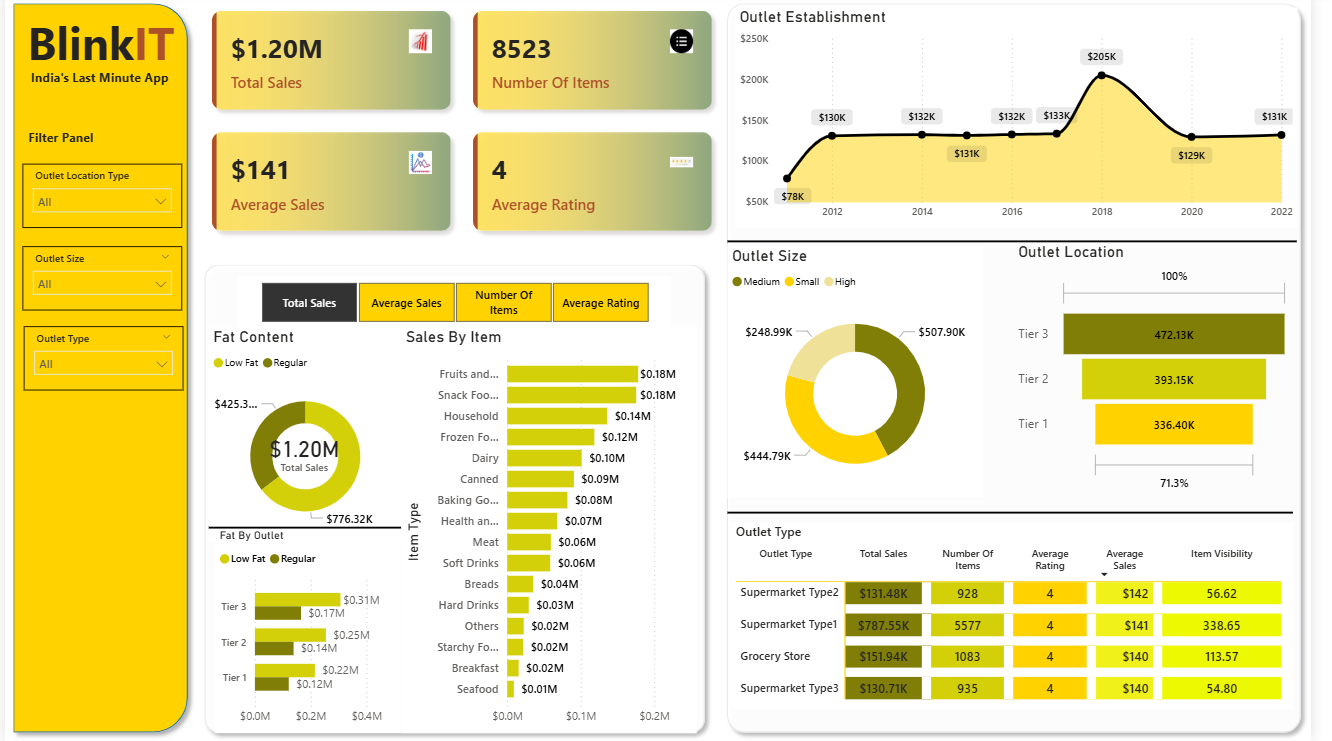

What the dashboard file says about the page in this screenshot:
{"tool":"powerbi","page":{"name":"Page 1","canvas":[1400,800],"ordinal":0},"visuals":[{"type":"shape","box":[0,0,205,799.8],"z":0},{"type":"textbox","box":[14.4,13.4,176.2,80.4],"z":1000},{"type":"textbox","box":[13.8,73.4,176.6,80.9],"z":2000},{"type":"cardVisual","fields":{"Data":["BlinkIT Grocery Data.Total Sales","BlinkIT Grocery Data.Number Of Items","BlinkIT Grocery Data.Average Sales","BlinkIT Grocery Data.Average Rating"]},"box":[205.3,0,570.2,270.2],"z":3000},{"type":"shape","box":[205.3,279.8,554.3,520.2],"z":4000},{"type":"donutChart","title":"Fat Content","fields":{"Y":["BlinkIT Grocery Data.Total Sales"],"Category":["BlinkIT Grocery Data.Item Fat Content"]},"box":[218.1,356.4,207.4,229.8],"z":5000},{"type":"slicer","fields":{"Values":["Metrics.Metrics"]},"box":[250,301.1,464.9,55.3],"z":6000},{"type":"cardVisual","fields":{"Data":["BlinkIT Grocery Data.Total Sales"]},"box":[266,455.3,111.7,61.7],"z":7000},{"type":"clusteredBarChart","title":"Fat By Outlet","fields":{"Y":["BlinkIT Grocery Data.Total Sales"],"Category":["BlinkIT Grocery Data.Outlet Location Type"],"Series":["BlinkIT Grocery Data.Item Fat Content"]},"box":[225.5,572.3,198.9,219.1],"z":8000},{"type":"shape","box":[218.1,556.4,206.4,29.8],"z":9000},{"type":"barChart","title":"Sales By Item","fields":{"Y":["BlinkIT Grocery Data.Total Sales"],"Category":["BlinkIT Grocery Data.Item Type"]},"box":[425.5,356.4,317,435.1],"z":10000},{"type":"shape","box":[764.8,0,633.1,799.8],"z":11000},{"type":"lineChart","title":"Outlet Establishment","fields":{"Category":["BlinkIT Grocery Data.Outlet Establishment Year"],"Y":["BlinkIT Grocery Data.Total Sales"]},"box":[783,13.8,603.2,236.2],"z":12000},{"type":"shape","box":[775.4,539.6,606.5,29.7],"z":13000},{"type":"shape","box":[775.4,249.6,610.8,29.7],"z":14000},{"type":"donutChart","title":"Outlet Size","fields":{"Y":["BlinkIT Grocery Data.Total Sales"],"Category":["BlinkIT Grocery Data.Outlet Size"]},"box":[775.4,269.8,274.1,269.8],"z":15000},{"type":"funnel","title":"Outlet Location","fields":{"Y":["Sum(BlinkIT Grocery Data.Sales)"],"Category":["BlinkIT Grocery Data.Outlet Location Type"]},"box":[1081.3,265.6,300.6,274.1],"z":16000},{"type":"pivotTable","title":"Outlet Type","fields":{"Rows":["BlinkIT Grocery Data.Outlet Type"],"Values":["BlinkIT Grocery Data.Total Sales","BlinkIT Grocery Data.Number Of Items","BlinkIT Grocery Data.Average Rating","BlinkIT Grocery Data.Average Sales","Sum(BlinkIT Grocery Data.Item Visibility)"]},"box":[778.6,566.2,603.3,199.7],"z":17000},{"type":"slicer","fields":{"Values":["BlinkIT Grocery Data.Outlet Location Type"]},"box":[19.1,180.6,171,69],"z":18000},{"type":"slicer","fields":{"Values":["BlinkIT Grocery Data.Outlet Size"]},"box":[19.1,269.8,171,69],"z":19000},{"type":"slicer","fields":{"Values":["BlinkIT Grocery Data.Outlet Type"]},"box":[20.2,355.8,171,69],"z":20000},{"type":"textbox","box":[19.5,137.8,142.3,30],"z":21000}]}

Visuals, with their boxes in screenshot pixels (x1, y1, x2, y2), scaled from the page's 1400x800 canvas onto the 1332x741 screenshot:
shape: (left=0, top=0, right=195, bottom=740)
textbox: (left=14, top=12, right=181, bottom=87)
textbox: (left=13, top=68, right=181, bottom=143)
cardVisual - BlinkIT Grocery Data.Total Sales x BlinkIT Grocery Data.Number Of Items: (left=195, top=0, right=738, bottom=250)
shape: (left=195, top=259, right=723, bottom=740)
"Fat Content" donutChart: (left=208, top=330, right=405, bottom=543)
slicer - Metrics.Metrics: (left=238, top=279, right=680, bottom=330)
cardVisual - BlinkIT Grocery Data.Total Sales: (left=253, top=422, right=359, bottom=479)
"Fat By Outlet" clusteredBarChart: (left=215, top=530, right=404, bottom=733)
shape: (left=208, top=515, right=404, bottom=543)
"Sales By Item" barChart: (left=405, top=330, right=706, bottom=733)
shape: (left=728, top=0, right=1330, bottom=740)
"Outlet Establishment" lineChart: (left=745, top=13, right=1319, bottom=232)
shape: (left=738, top=500, right=1315, bottom=527)
shape: (left=738, top=231, right=1319, bottom=259)
"Outlet Size" donutChart: (left=738, top=250, right=999, bottom=500)
"Outlet Location" funnel: (left=1029, top=246, right=1315, bottom=500)
"Outlet Type" pivotTable: (left=741, top=524, right=1315, bottom=709)
slicer - BlinkIT Grocery Data.Outlet Location Type: (left=18, top=167, right=181, bottom=231)
slicer - BlinkIT Grocery Data.Outlet Size: (left=18, top=250, right=181, bottom=314)
slicer - BlinkIT Grocery Data.Outlet Type: (left=19, top=330, right=182, bottom=393)
textbox: (left=19, top=128, right=154, bottom=155)
